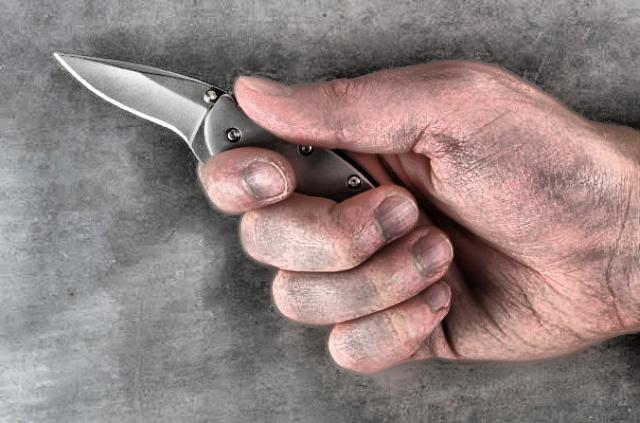knife: (46, 44, 427, 280)
